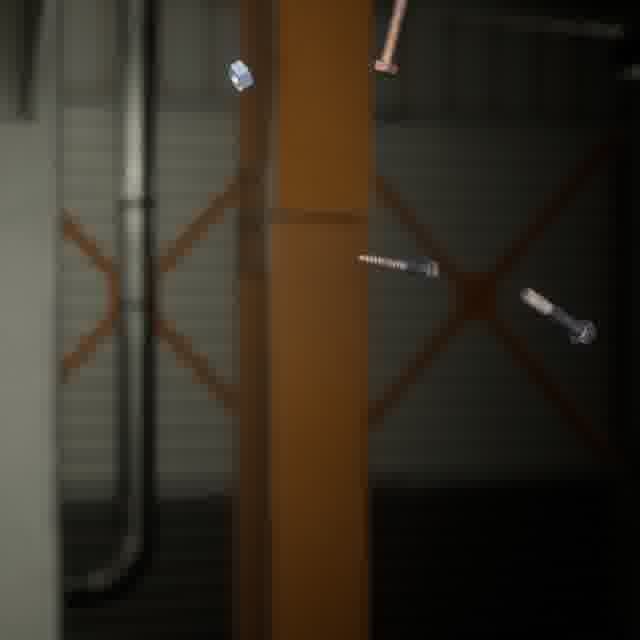bolt: (514, 282, 600, 350), (365, 0, 413, 81), (352, 250, 443, 287)
nut: (223, 55, 258, 96)
